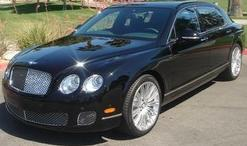front_view: (1, 58, 123, 136)
headlight: (56, 70, 107, 98)
side_glass: (167, 6, 233, 45)
